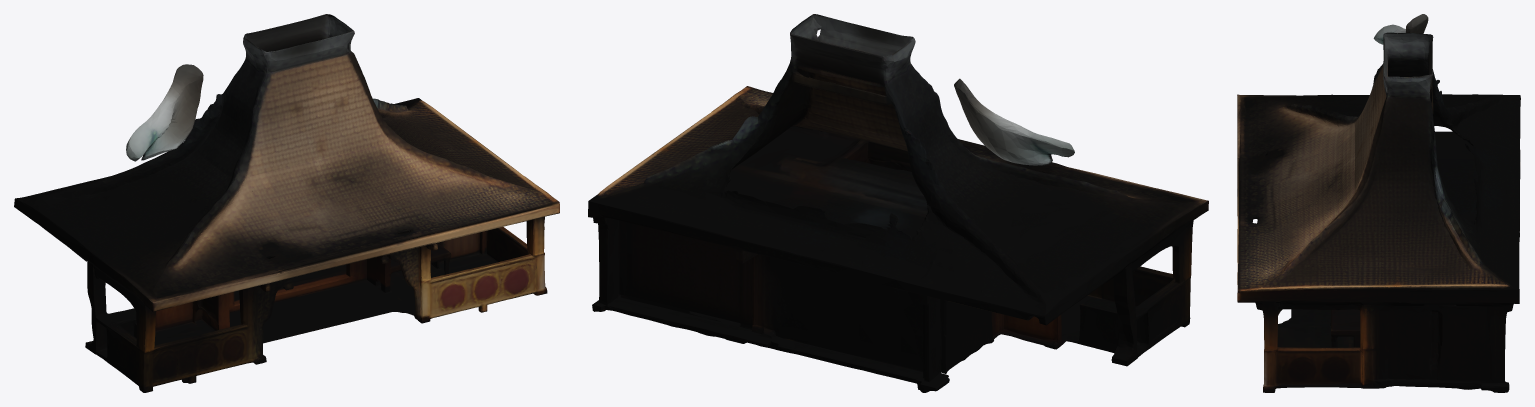
Rendered from jawa-timur.glb.
3 views of the same model, side by side, from view 1: azimuth 30°, elevation 25°; view 2: azimuth 150°, elevation 25°; view 3: azimuth 270°, elevation 25° (orthographic). The views are drawn at different scales.
Parts seen in each view (by area): view 1: world; view 2: world; view 3: world.
Boxes of the visible parts, box(x1,y1,x2,y2) form: world: box(14, 14, 559, 392); world: box(588, 14, 1208, 392); world: box(1237, 14, 1520, 392).
Size of the model in its own units: 0.691 by 0.4132 by 0.4147.
1 material, 1 textured.
